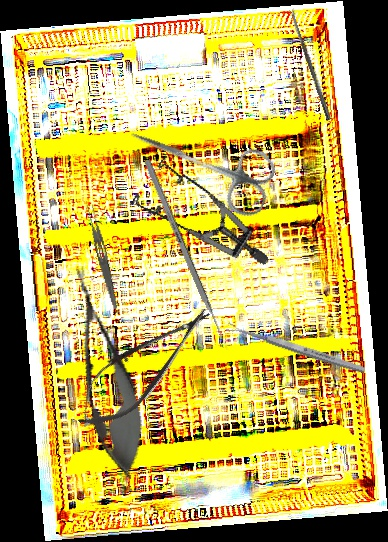Dressing Forceps: (83, 202, 123, 311)
Iris Scissors: (117, 105, 282, 222)
Micro Scissor: (62, 291, 225, 442), (53, 259, 157, 486)
Pusher: (143, 159, 231, 352)
Speculum: (119, 135, 270, 304)
Surgical Spoon: (225, 320, 367, 376), (289, 8, 332, 121)
